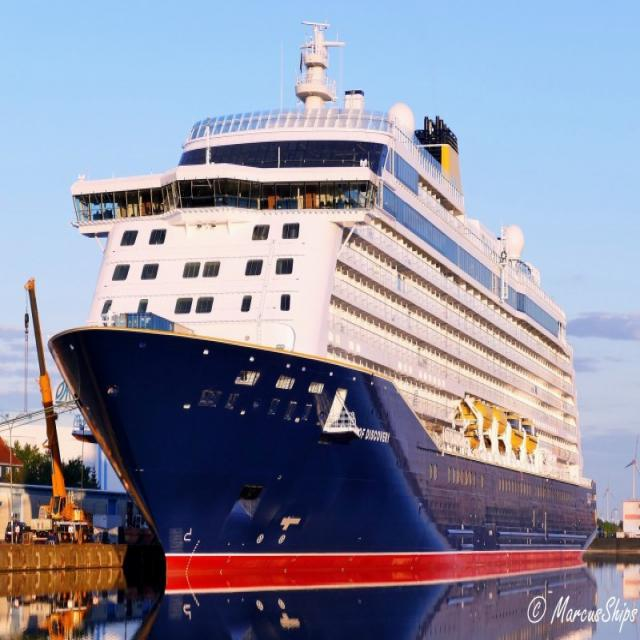cruises: (55, 31, 612, 592)
